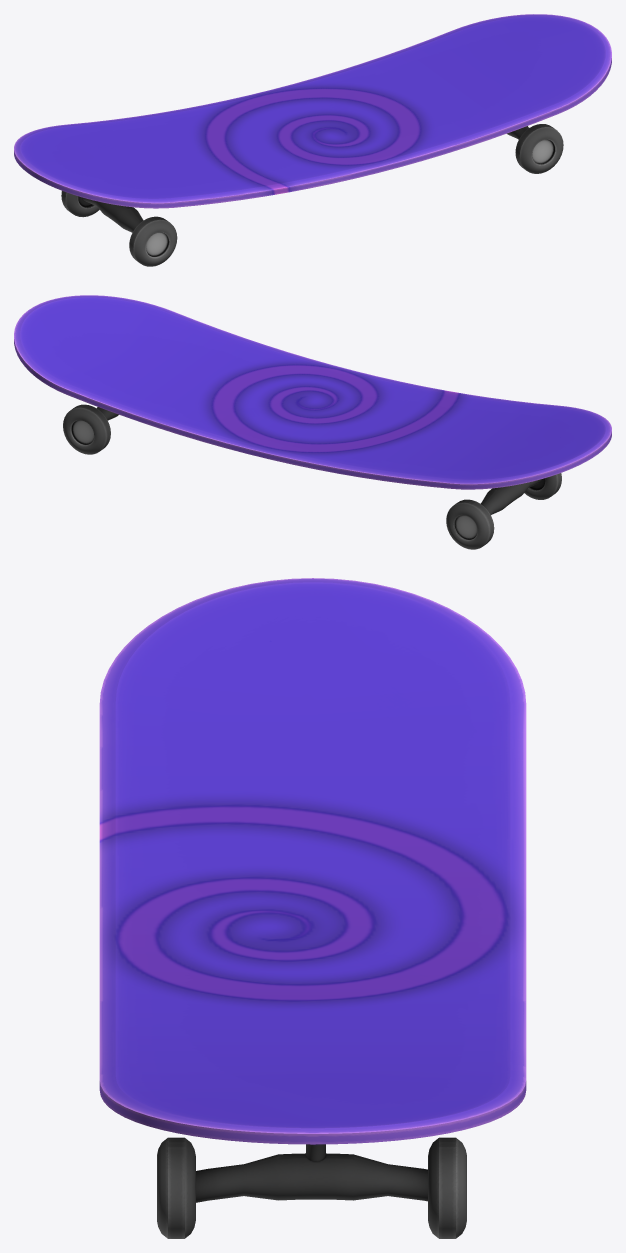
The model's file is 3D_Skate_Board.FBX.
The picture shows the model from 3 angles, top to bottom: view 1: azimuth 30°, elevation 25°; view 2: azimuth 150°, elevation 25°; view 3: azimuth 270°, elevation 25°; orthographic projection. The views are drawn at different scales.
Parts seen in each view (by area): view 1: 3D_Skate_Board; view 2: 3D_Skate_Board; view 3: 3D_Skate_Board.
Part boxes in pixels (x1,y1,x2,y2): 3D_Skate_Board: [14, 14, 611, 266]; 3D_Skate_Board: [14, 295, 611, 549]; 3D_Skate_Board: [99, 578, 526, 1238].
Bounding box in the file's own units: 117 × 18.7 × 37.83.
